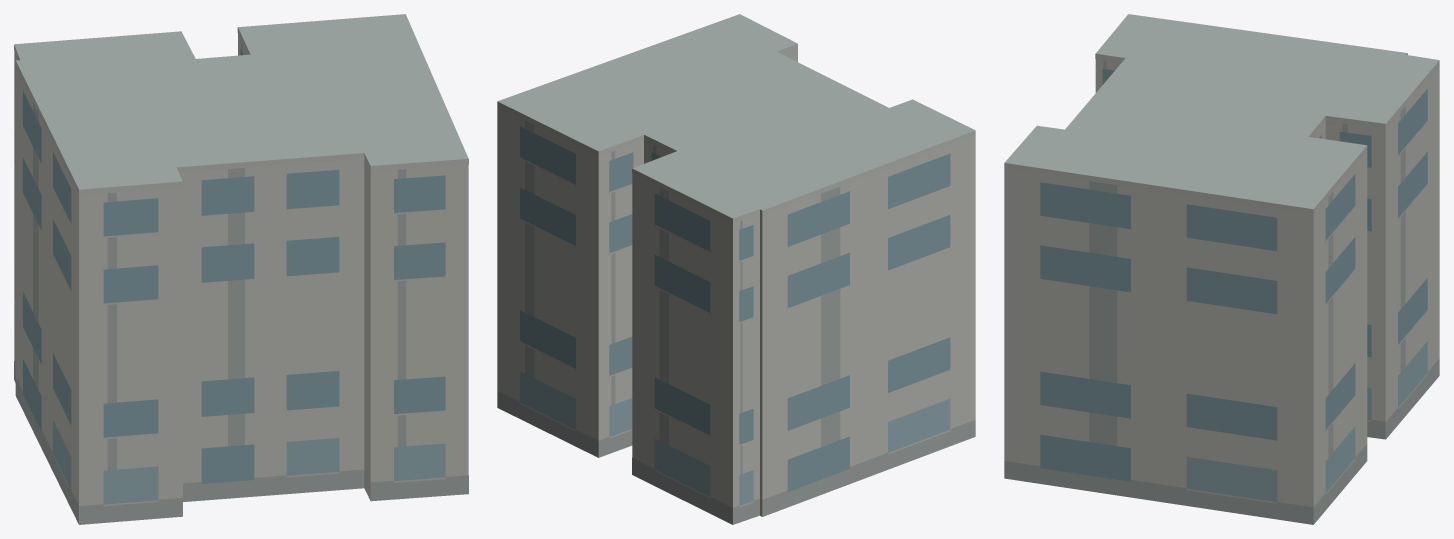
Rendered from survey-upis-32965204.glb.
The picture shows the model from 3 angles, left to right: view 1: azimuth 30°, elevation 25°; view 2: azimuth 150°, elevation 25°; view 3: azimuth 270°, elevation 25°; orthographic projection. The views are drawn at different scales.
Visible parts, largest first — view 1: survey-upis-32965204.tmp; view 2: survey-upis-32965204.tmp; view 3: survey-upis-32965204.tmp.
Part boxes in pixels (box(x1,y1,x2,y2)): survey-upis-32965204.tmp: box(14, 14, 468, 524); survey-upis-32965204.tmp: box(497, 14, 975, 524); survey-upis-32965204.tmp: box(1004, 14, 1439, 524).
Bounding box in the file's own units: 18.71 × 14.1 × 17.63.
